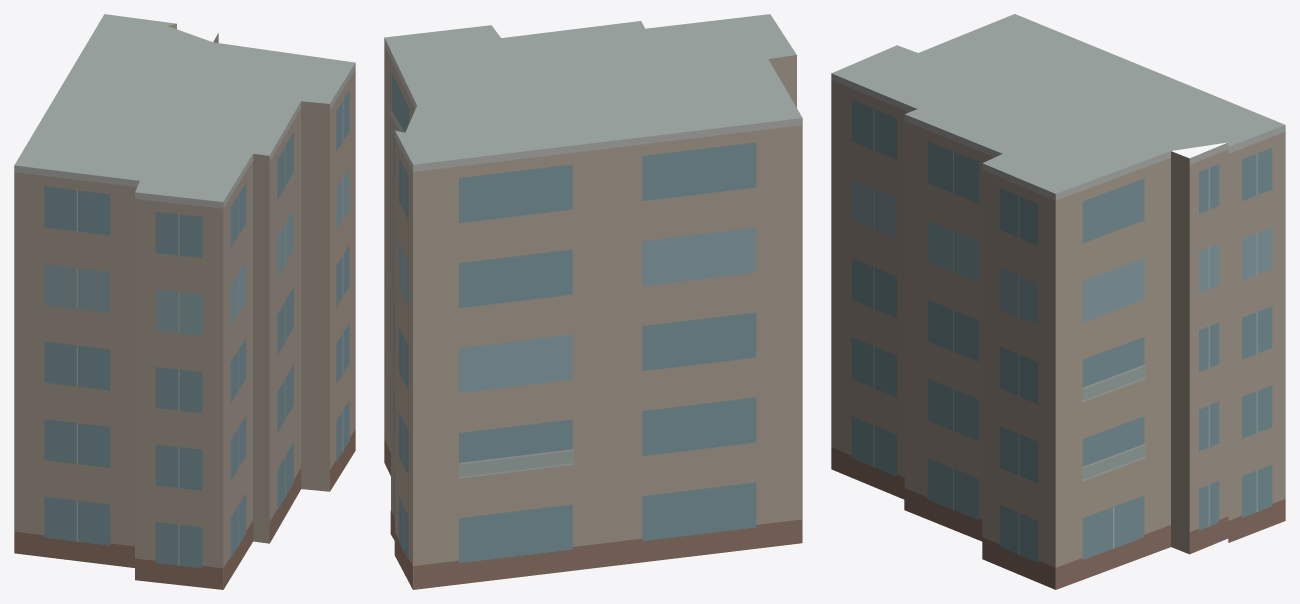
File: survey-upis-32915023.glb
3 renders of one model, left to right at view 1: azimuth 30°, elevation 25°; view 2: azimuth 150°, elevation 25°; view 3: azimuth 270°, elevation 25°, orthographic. The views are drawn at different scales.
Visible parts, largest first — view 1: survey-upis-32915023.tmp; view 2: survey-upis-32915023.tmp; view 3: survey-upis-32915023.tmp.
Boxes of the visible parts, <box> form: survey-upis-32915023.tmp: <box>14,14,355,589</box>; survey-upis-32915023.tmp: <box>384,14,802,589</box>; survey-upis-32915023.tmp: <box>831,14,1285,589</box>.
Size of the model in its own units: 13.94 by 14.3 by 14.87.
